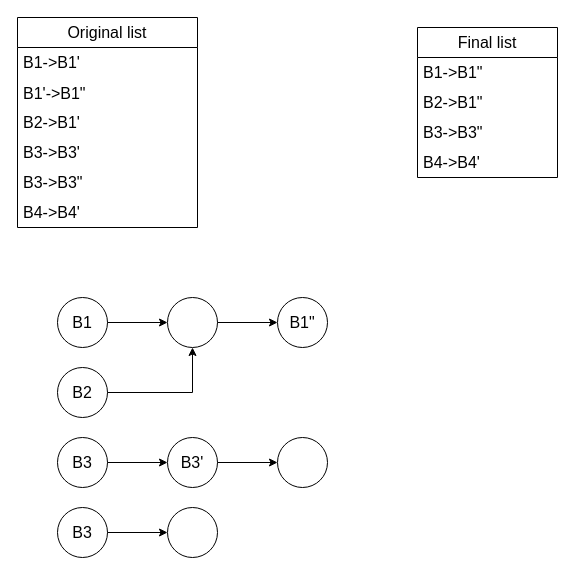
Image size: 575x575. Some labels were removed from this diagram. Here are the shapes that lost their labels. From the top down, the centre of each, then its label:
point (192, 322): B1'
point (302, 462): B3"
point (192, 532): B4'
